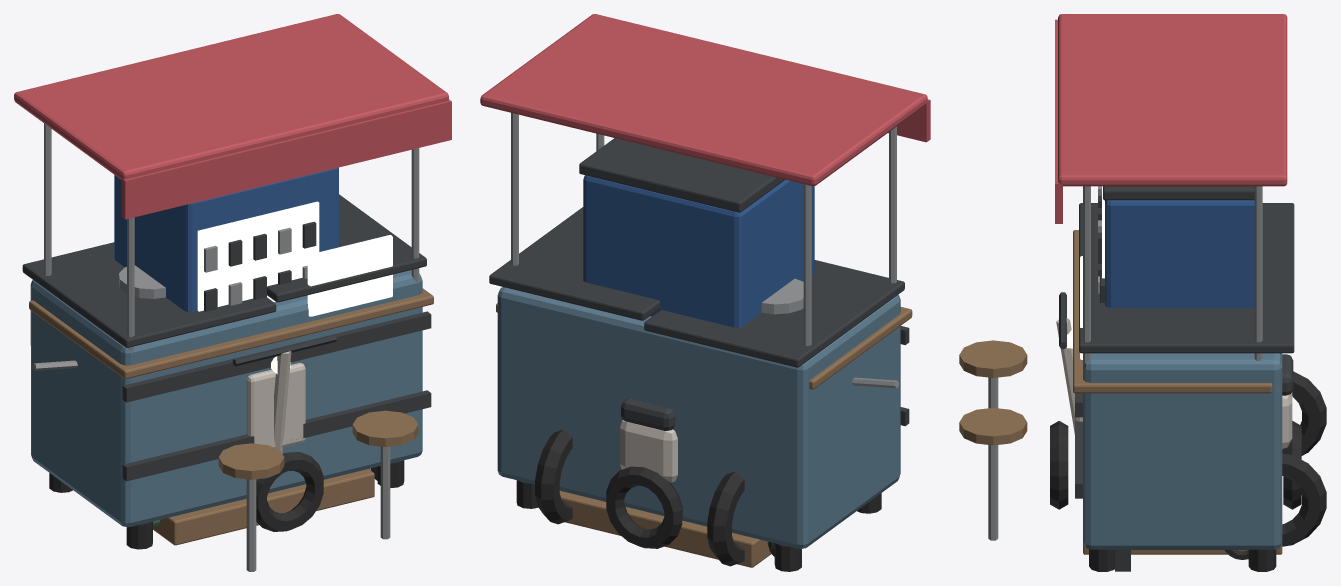
File: street81.glb
The picture shows the model from 3 angles, left to right: view 1: azimuth 30°, elevation 25°; view 2: azimuth 150°, elevation 25°; view 3: azimuth 270°, elevation 25°; orthographic projection. The views are drawn at different scales.
Parts seen in each view (by area): view 1: dump-body, cart-awning, cart-valance, vendblue-body, dump-lid, vendblue-window, cart-counter, crate-pallet, cart-board, dump-rib2, dump-rib, dump-lid2 (+13 smaller); view 2: dump-body, cart-awning, vendblue-body, dump-lid, vendblue-top, dump-lid2, scooter-wr, crate-pallet, scooter-body, cart-wheel.001, cart-wheel, cart-pole.001 (+7 smaller); view 3: cart-awning, dump-body, vendblue-body, dump-lid2, cart-counter, dump-lid, cart-wheel.001, vendblue-top, cart-stool, cart-stool.001, cart-wheel, scooter-wf (+12 smaller).
Boxes of the visible parts, x1=… form: dump-body: x1=30, y1=270, x2=422, y2=527; cart-awning: x1=14, y1=14, x2=448, y2=179; cart-valance: x1=121, y1=99, x2=451, y2=219; vendblue-body: x1=114, y1=167, x2=338, y2=312; dump-lid: x1=22, y1=242, x2=276, y2=347; vendblue-window: x1=197, y1=201, x2=319, y2=311; cart-counter: x1=29, y1=288, x2=433, y2=378; crate-pallet: x1=153, y1=469, x2=374, y2=545; cart-board: x1=307, y1=235, x2=392, y2=316; dump-rib2: x1=122, y1=311, x2=431, y2=402; dump-rib: x1=122, y1=390, x2=431, y2=481; dump-lid2: x1=267, y1=194, x2=426, y2=302; dump-body: x1=497, y1=287, x2=900, y2=548; cart-awning: x1=480, y1=14, x2=927, y2=186; vendblue-body: x1=583, y1=175, x2=814, y2=327; dump-lid: x1=644, y1=260, x2=904, y2=367; vendblue-top: x1=579, y1=138, x2=784, y2=212; dump-lid2: x1=489, y1=207, x2=660, y2=320; scooter-wr: x1=606, y1=466, x2=682, y2=548; crate-pallet: x1=559, y1=491, x2=771, y2=567; scooter-body: x1=620, y1=420, x2=677, y2=482; cart-wheel.001: x1=535, y1=429, x2=572, y2=524; cart-wheel: x1=707, y1=471, x2=744, y2=566; cart-pole.001: x1=803, y1=184, x2=811, y2=345; cart-awning: x1=1058, y1=14, x2=1287, y2=186; dump-body: x1=1083, y1=353, x2=1282, y2=549; vendblue-body: x1=1105, y1=200, x2=1254, y2=307; dump-lid2: x1=1079, y1=270, x2=1294, y2=353; cart-counter: x1=1073, y1=230, x2=1272, y2=393; dump-lid: x1=1079, y1=203, x2=1294, y2=271; cart-wheel.001: x1=1282, y1=453, x2=1326, y2=546; vendblue-top: x1=1103, y1=186, x2=1254, y2=200; cart-stool: x1=959, y1=340, x2=1027, y2=377; cart-stool.001: x1=959, y1=408, x2=1027, y2=445; cart-wheel: x1=1282, y1=371, x2=1326, y2=455; scooter-wf: x1=1050, y1=421, x2=1068, y2=509.
Bounding box in the file's own units: 2.13 × 2.28 × 1.84.
